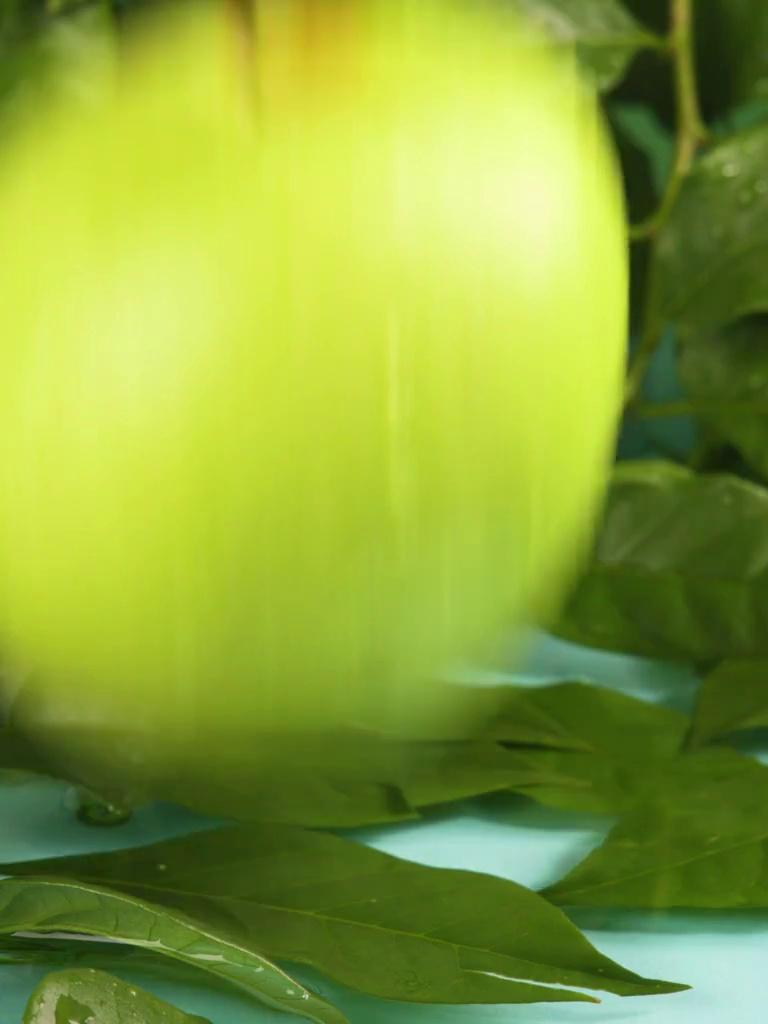Apple: (1, 1, 626, 816)
